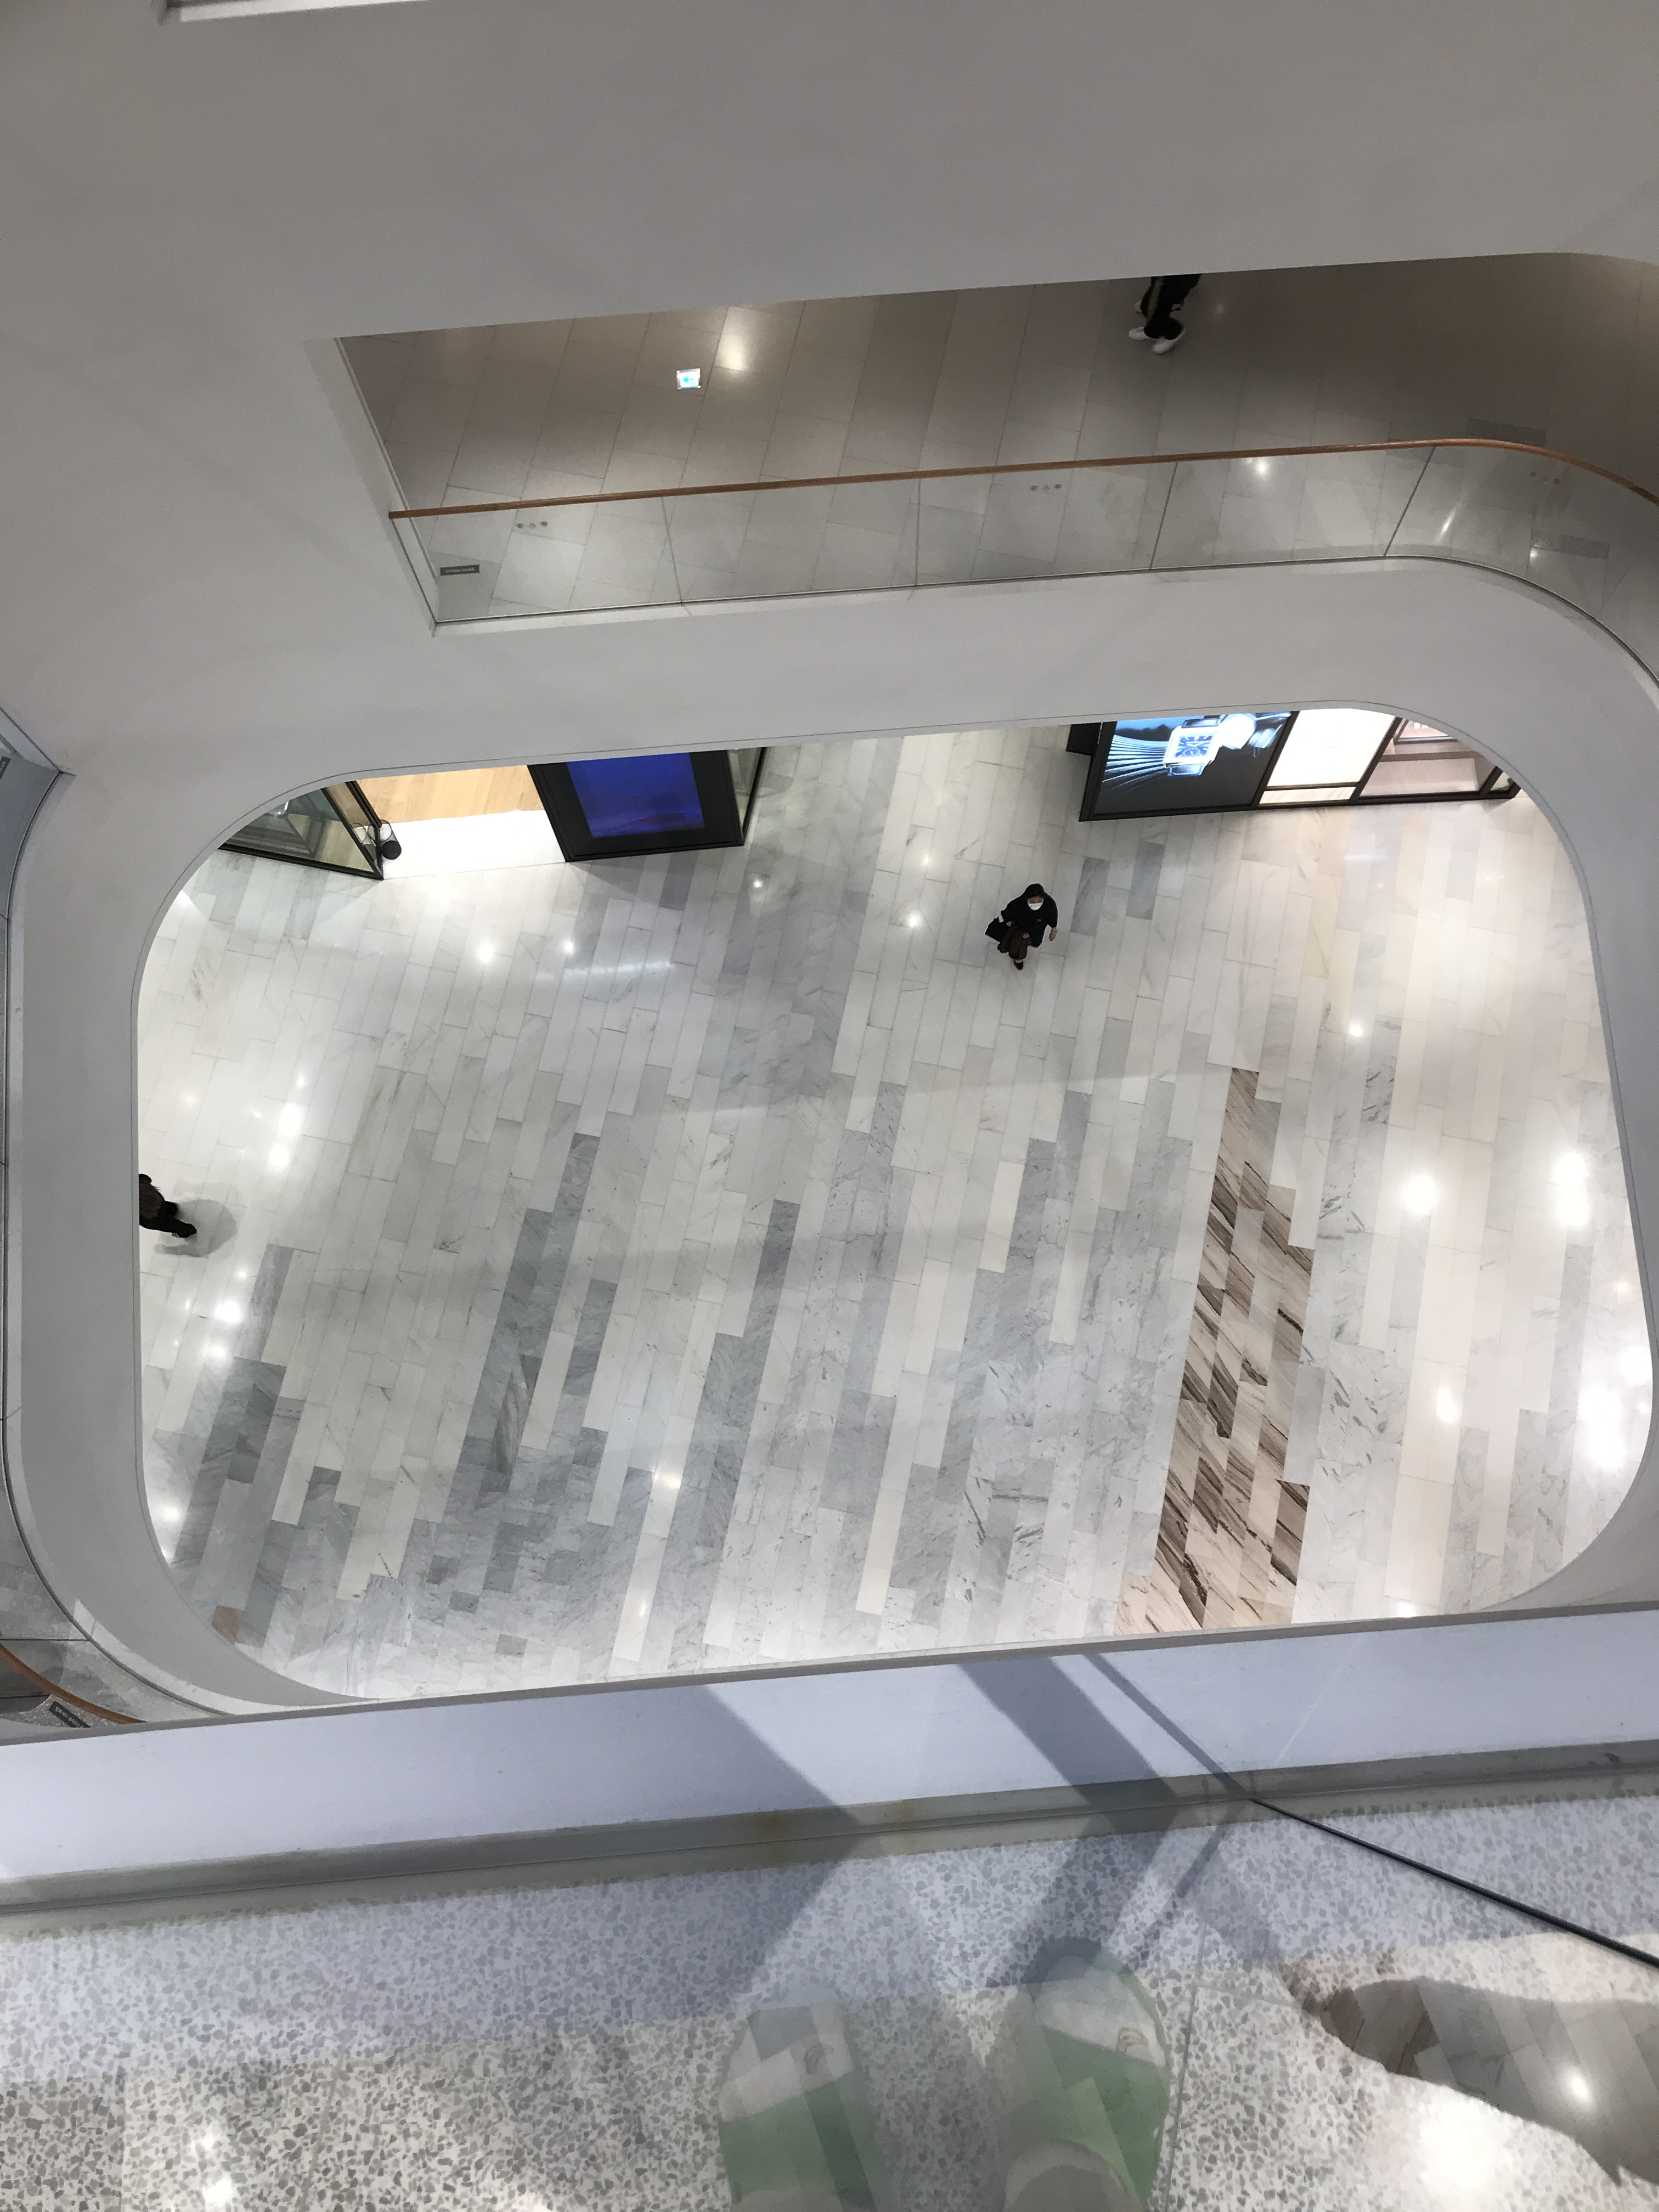person: (123, 1171, 204, 1251), (986, 884, 1054, 977), (1132, 274, 1199, 358)
